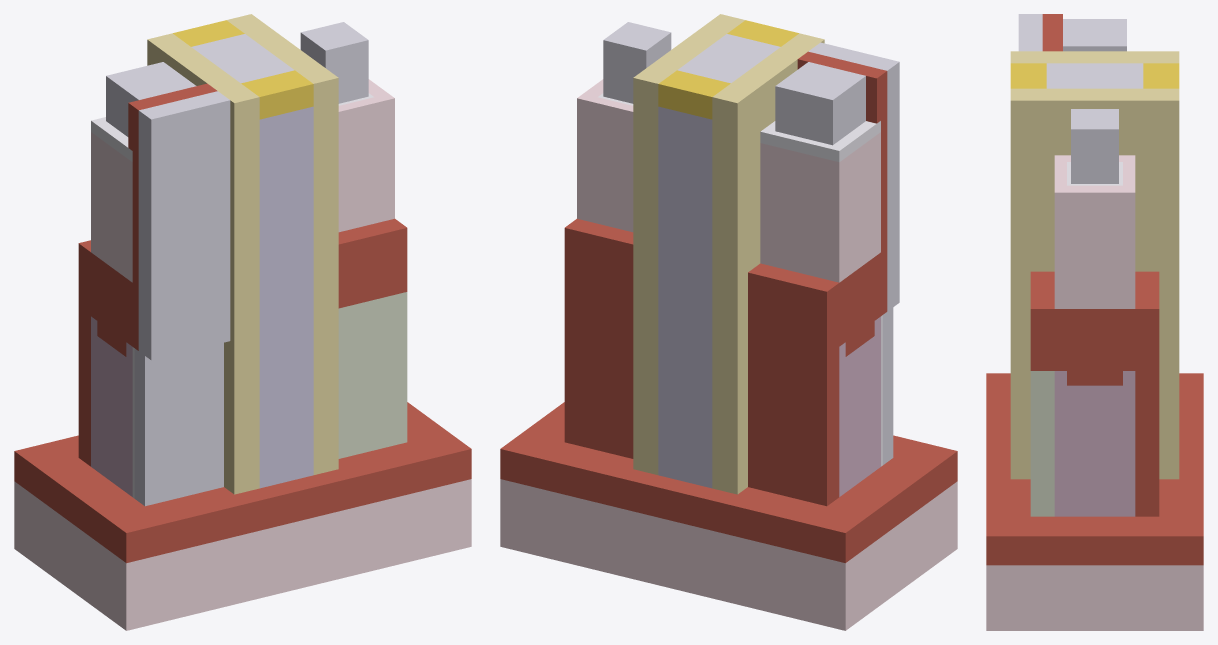
Rendered from cfet_mono.glb.
3 views of the same model, side by side, from view 1: azimuth 30°, elevation 25°; view 2: azimuth 150°, elevation 25°; view 3: azimuth 270°, elevation 25° (orthographic). The views are drawn at different scales.
Parts seen in each view (by area): view 1: ni_lo_source, substrate, box, mo, spacer_source, spacer_drain, tiox_drain, epi_n_drain, iso_source, epi_p_source, iso_drain, epi_n_source (+6 smaller); view 2: substrate, box, iso_source, mo, spacer_source, iso_drain, epi_n_source, spacer_drain, epi_n_drain, ni_source, epi_p_source, ni_lo_source (+5 smaller); view 3: spacer_drain, box, iso_drain, substrate, epi_p_drain, epi_n_drain, tiox_drain, ni_drain, gatew, spacer_source, ni_source, gatecap (+2 smaller).
Part boxes in pixels (x1=…): ni_lo_source: x1=134, y1=91, x2=230, y2=506; substrate: x1=14, y1=479, x2=471, y2=630; box: x1=14, y1=402, x2=471, y2=563; mo: x1=259, y1=106, x2=313, y2=488; spacer_source: x1=147, y1=33, x2=259, y2=494; spacer_drain: x1=226, y1=14, x2=338, y2=474; tiox_drain: x1=338, y1=292, x2=407, y2=458; epi_n_drain: x1=338, y1=79, x2=394, y2=232; iso_source: x1=78, y1=240, x2=132, y2=466; epi_p_source: x1=91, y1=316, x2=132, y2=496; iso_drain: x1=338, y1=218, x2=407, y2=308; epi_n_source: x1=91, y1=132, x2=132, y2=282; substrate: x1=500, y1=479, x2=957, y2=630; box: x1=500, y1=402, x2=957, y2=563; iso_source: x1=748, y1=252, x2=880, y2=506; mo: x1=658, y1=106, x2=712, y2=488; spacer_source: x1=712, y1=33, x2=824, y2=494; iso_drain: x1=564, y1=218, x2=633, y2=458; epi_n_source: x1=760, y1=132, x2=880, y2=282; spacer_drain: x1=633, y1=14, x2=745, y2=474; epi_n_drain: x1=577, y1=79, x2=633, y2=232; ni_source: x1=775, y1=62, x2=865, y2=145; epi_p_source: x1=839, y1=316, x2=880, y2=496; ni_lo_source: x1=808, y1=42, x2=899, y2=464; spacer_drain: x1=1010, y1=88, x2=1179, y2=479; box: x1=986, y1=373, x2=1203, y2=565; iso_drain: x1=1030, y1=271, x2=1159, y2=516; substrate: x1=986, y1=565, x2=1203, y2=630; epi_p_drain: x1=1054, y1=371, x2=1135, y2=516; epi_n_drain: x1=1054, y1=155, x2=1135, y2=308; tiox_drain: x1=1030, y1=371, x2=1054, y2=516; ni_drain: x1=1071, y1=109, x2=1118, y2=183; gatew: x1=1046, y1=63, x2=1143, y2=88; spacer_source: x1=1010, y1=51, x2=1179, y2=63; ni_source: x1=1063, y1=19, x2=1126, y2=51; gatecap: x1=1010, y1=63, x2=1179, y2=88.
Size of the model in its own units: 96 by 130 by 54.
